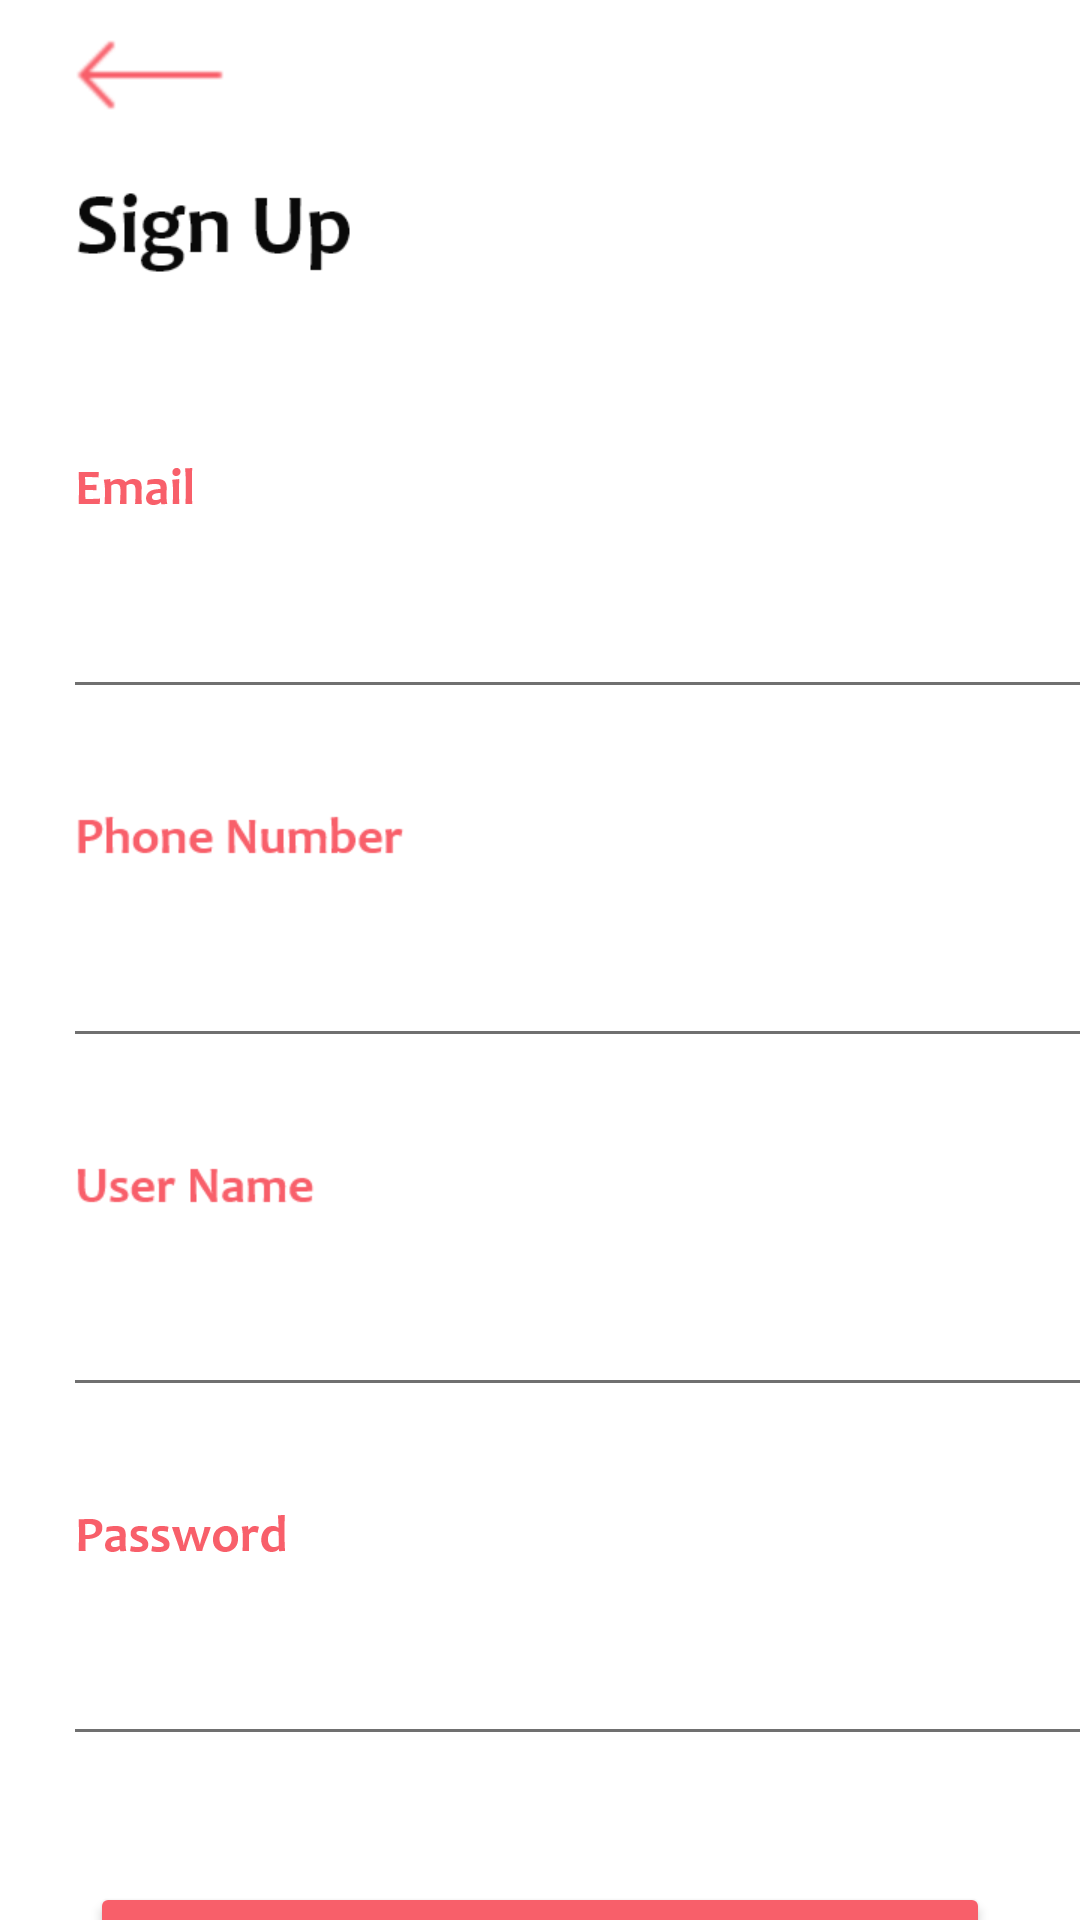

Icon bounding boxes for this 1080×1920 phone screenshot, format Rect(x1, y1, x2, y2):
left arrow: Rect(77, 41, 223, 109)
